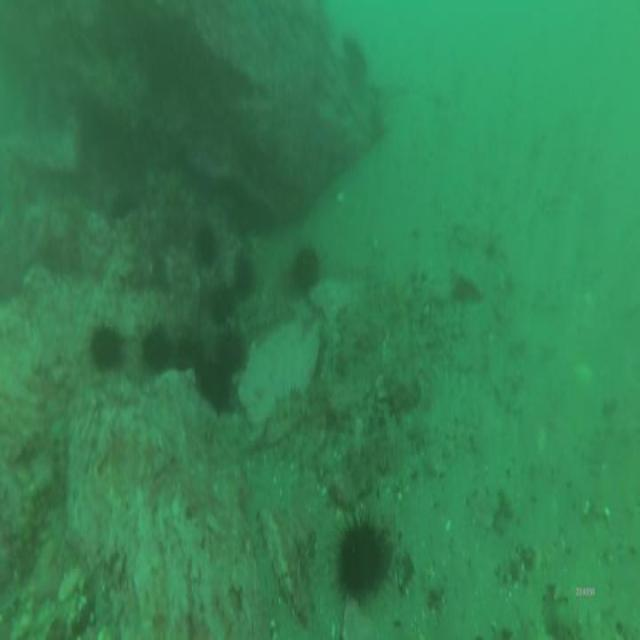echinus: (328, 509, 392, 610), (288, 240, 324, 300), (195, 357, 233, 413), (86, 319, 123, 376), (138, 318, 172, 371), (219, 322, 249, 380), (190, 220, 222, 270), (340, 27, 368, 79), (172, 330, 202, 378), (208, 280, 238, 328), (232, 246, 260, 294)
